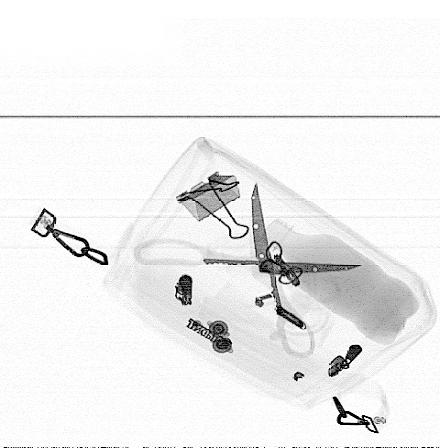Scissors: (134, 183, 362, 359)
